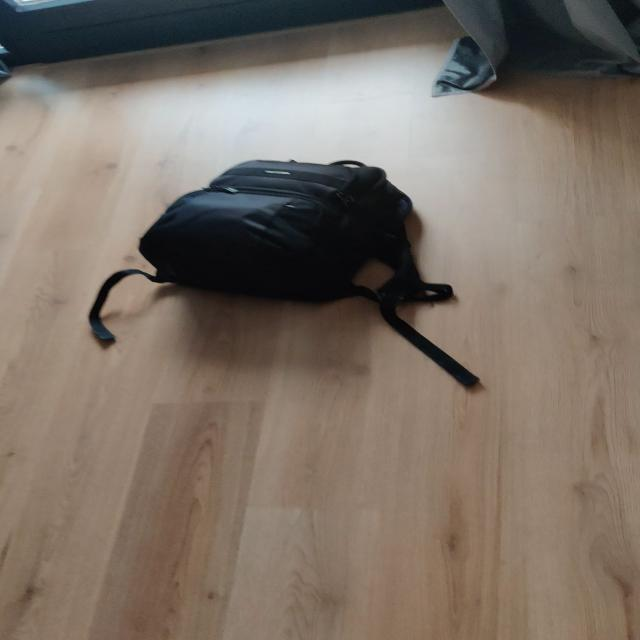backpack: (134, 152, 434, 309)
